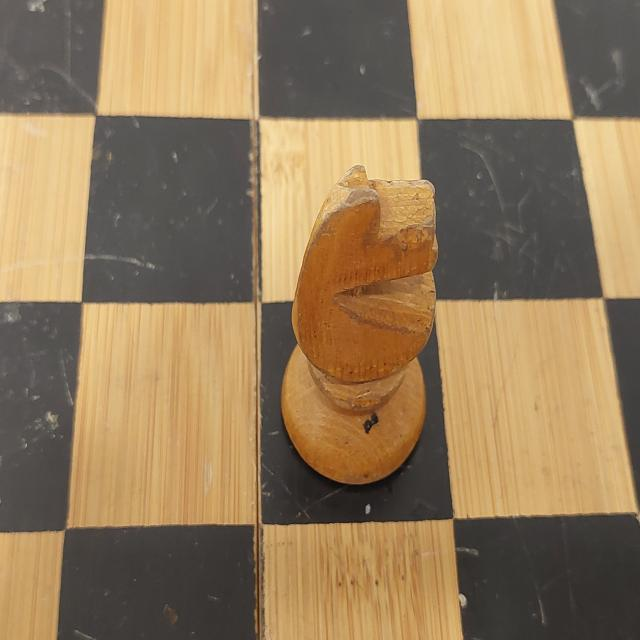white-knight: (277, 161, 442, 489)
